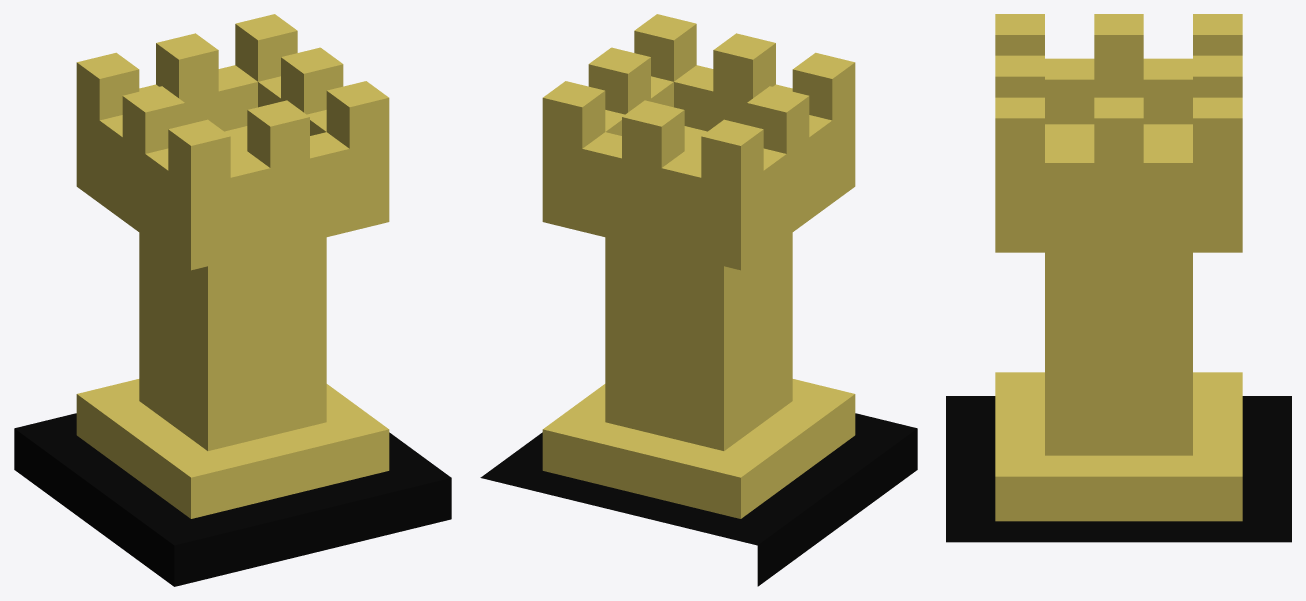
Rendered from rook-b.glb.
The picture shows the model from 3 angles, left to right: view 1: azimuth 30°, elevation 25°; view 2: azimuth 150°, elevation 25°; view 3: azimuth 270°, elevation 25°; orthographic projection. The views are drawn at different scales.
Parts seen in each view (by area): view 1: root; view 2: root; view 3: root.
Part boxes in pixels (x1,y1,x2,y2): root: (14, 14, 451, 586); root: (480, 14, 917, 586); root: (946, 14, 1291, 542).
Bounding box in the file's own units: 1 × 1.43 × 1.
Materials: 1 (1 with a texture image).
